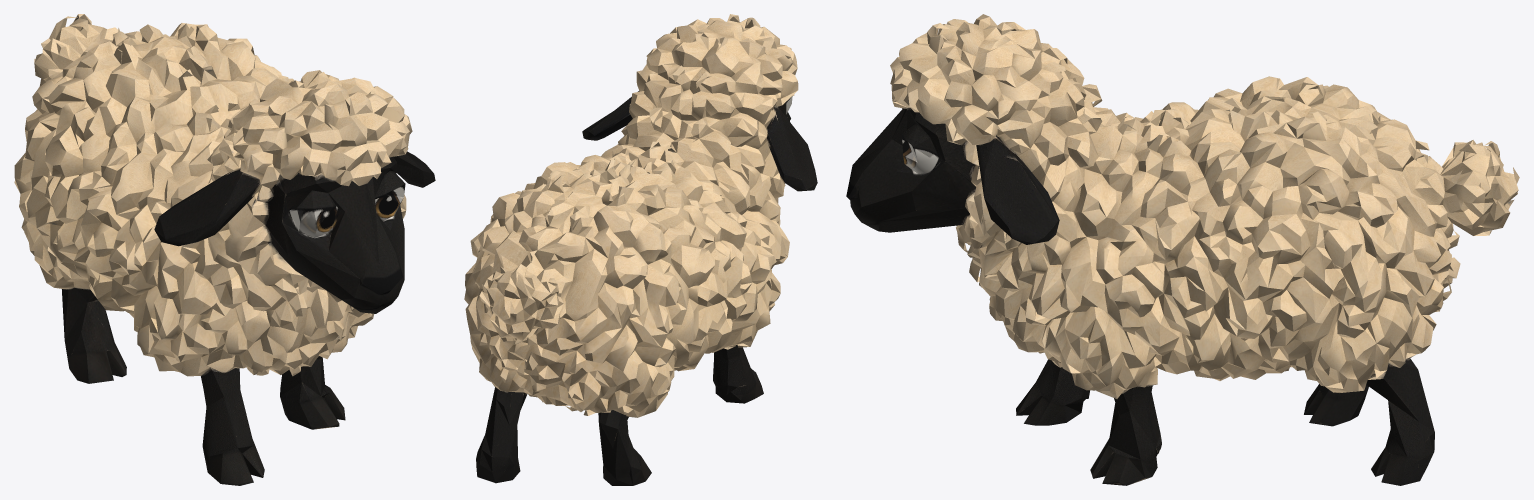
3 views of the same model, side by side, from view 1: azimuth 30°, elevation 25°; view 2: azimuth 150°, elevation 25°; view 3: azimuth 270°, elevation 25° (orthographic). The views are drawn at different scales.
Parts seen in each view (by area): view 1: Mesh_0; view 2: Mesh_0; view 3: Mesh_0.
Boxes of the visible parts, bbox=[...] form: Mesh_0: bbox=[14, 14, 435, 485]; Mesh_0: bbox=[464, 14, 817, 485]; Mesh_0: bbox=[846, 14, 1519, 485].
Bounding box in the file's own units: 0.9134 × 1.29 × 1.9.
1 material, 1 textured.
